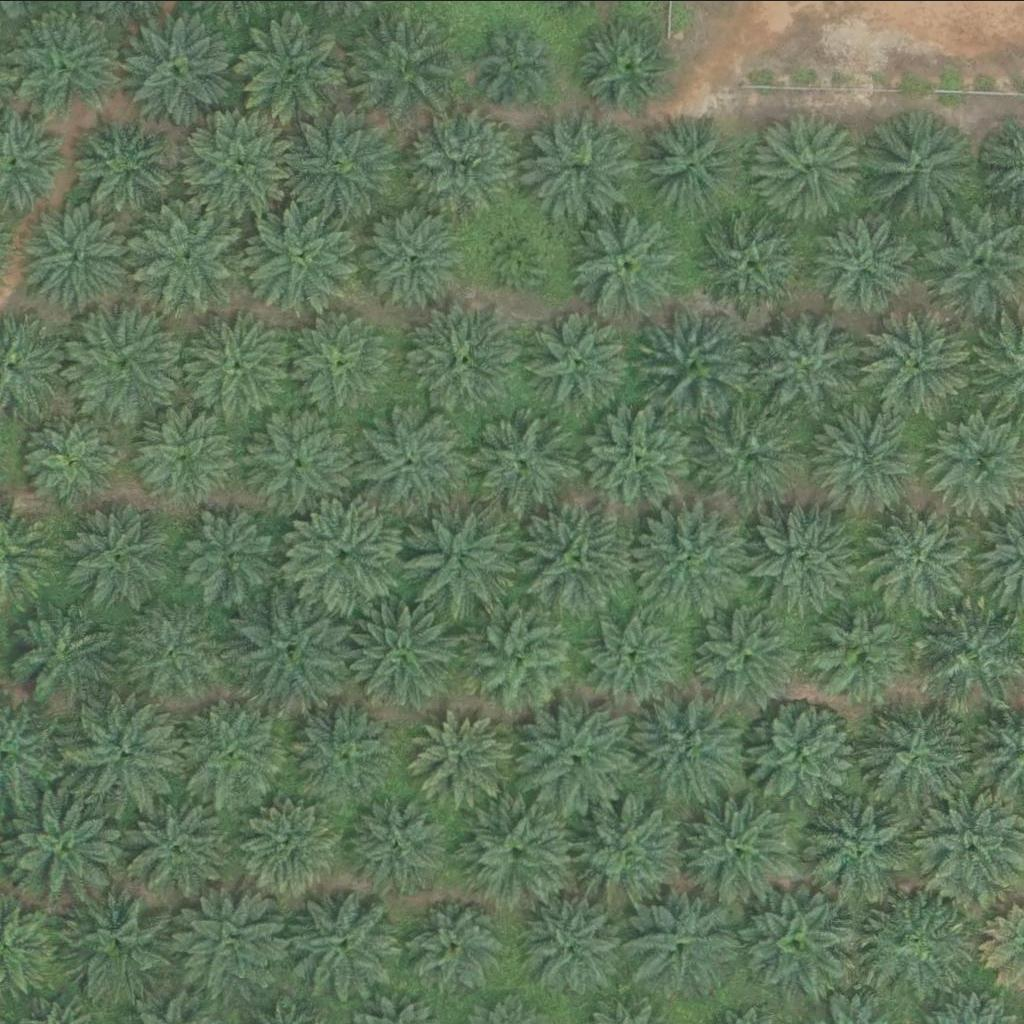Kelapa_Sawit: (404, 104, 518, 217), (245, 198, 359, 311), (5, 592, 119, 705), (461, 603, 575, 716), (519, 498, 633, 611), (637, 498, 751, 611), (693, 399, 807, 512), (808, 398, 922, 511), (185, 100, 298, 213), (280, 106, 393, 219), (20, 199, 133, 312), (136, 195, 249, 308), (69, 303, 182, 416), (288, 496, 401, 609), (400, 499, 513, 612), (118, 595, 231, 708), (237, 590, 350, 703), (349, 597, 462, 710), (71, 693, 184, 806), (173, 888, 286, 1001), (289, 888, 402, 1001), (401, 890, 514, 1003), (514, 889, 627, 1002), (627, 883, 740, 996), (741, 883, 854, 996), (682, 793, 795, 906), (808, 791, 921, 904), (750, 502, 863, 615), (868, 495, 981, 608), (571, 206, 684, 319), (693, 209, 806, 322), (528, 110, 641, 223), (632, 106, 745, 219), (755, 106, 868, 219), (867, 111, 980, 224), (183, 303, 297, 415), (64, 500, 178, 612), (583, 398, 697, 510), (748, 306, 862, 418), (865, 307, 979, 419), (11, 8, 124, 120), (122, 11, 235, 123), (234, 6, 347, 118), (341, 7, 454, 119), (409, 301, 522, 413), (246, 402, 359, 514), (356, 398, 469, 510), (177, 693, 290, 805), (290, 695, 403, 807), (8, 788, 121, 900), (119, 791, 232, 903), (67, 885, 180, 997), (863, 883, 976, 995), (460, 798, 573, 910), (576, 795, 689, 907), (520, 696, 633, 808), (632, 690, 745, 802), (744, 696, 857, 808), (857, 701, 970, 813), (687, 597, 800, 709), (465, 404, 578, 516), (641, 306, 754, 418), (73, 108, 174, 208), (409, 704, 510, 804), (241, 796, 342, 896), (347, 791, 448, 891), (810, 600, 911, 700), (530, 308, 631, 408), (362, 203, 462, 303), (293, 310, 393, 410), (25, 409, 125, 509), (139, 404, 239, 504), (183, 501, 283, 601), (588, 605, 688, 705), (813, 213, 913, 313), (584, 20, 673, 108), (484, 24, 560, 99), (487, 220, 550, 282)
